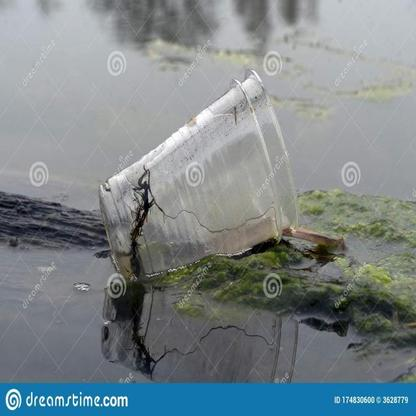plastic bottle: (97, 70, 299, 278)
